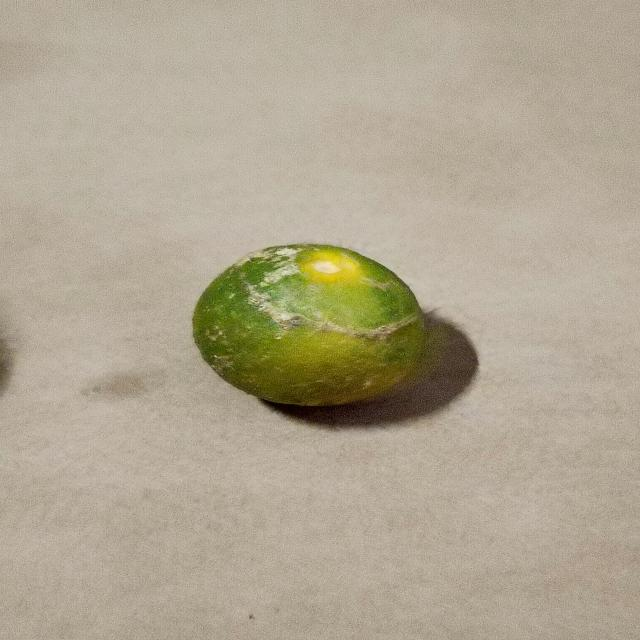thrips: (193, 237, 430, 409)
